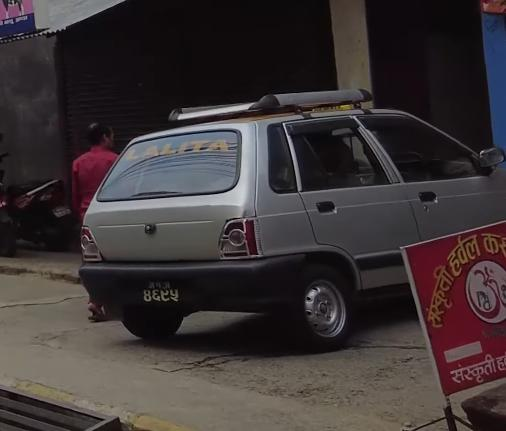scooter: (0, 146, 76, 247)
taxi: (74, 85, 506, 360)
